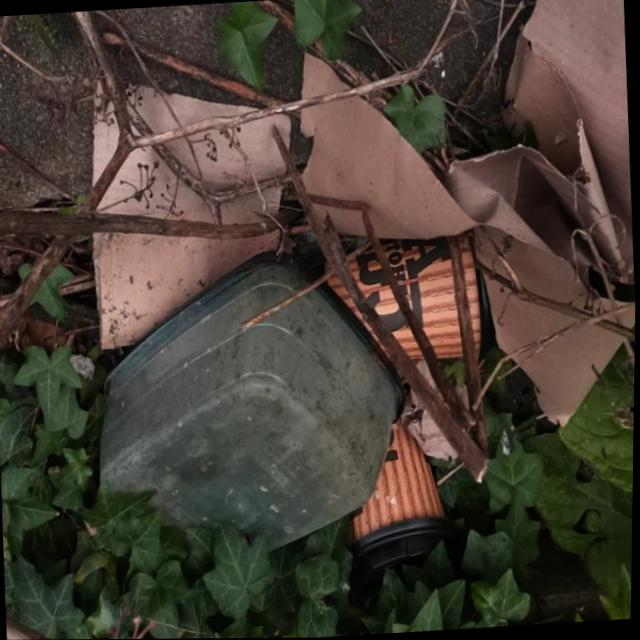Cup: (319, 230, 506, 376), (339, 392, 453, 583)
